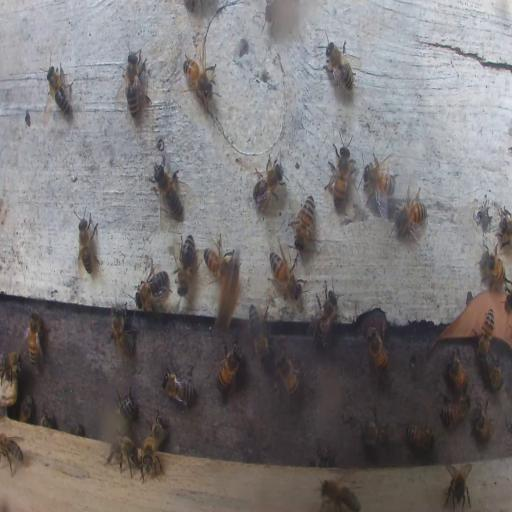nonpollenbee: (325, 129, 354, 209), (362, 152, 398, 212), (251, 156, 287, 212), (392, 185, 427, 241), (324, 38, 356, 95), (182, 54, 216, 106), (153, 164, 184, 220), (268, 249, 301, 300), (311, 286, 338, 347), (202, 238, 234, 286), (216, 338, 244, 392), (135, 267, 171, 309), (318, 476, 361, 511), (109, 304, 137, 357), (123, 46, 143, 118), (443, 464, 473, 512), (76, 210, 98, 275), (248, 300, 270, 364), (45, 66, 72, 117), (161, 367, 196, 406), (106, 434, 139, 475), (174, 233, 196, 294), (292, 194, 316, 248), (275, 350, 301, 398), (0, 349, 22, 399), (362, 410, 390, 449), (479, 245, 505, 286), (0, 433, 25, 475), (440, 394, 470, 428), (366, 324, 388, 370), (444, 351, 468, 392), (27, 307, 42, 372), (404, 422, 436, 452), (472, 400, 492, 443), (478, 306, 494, 359), (145, 414, 166, 454), (142, 443, 160, 478), (498, 207, 512, 247), (116, 390, 134, 419), (18, 394, 35, 423), (488, 356, 502, 390), (315, 446, 330, 469), (41, 408, 55, 428)
pollenbee: (214, 247, 243, 332)
